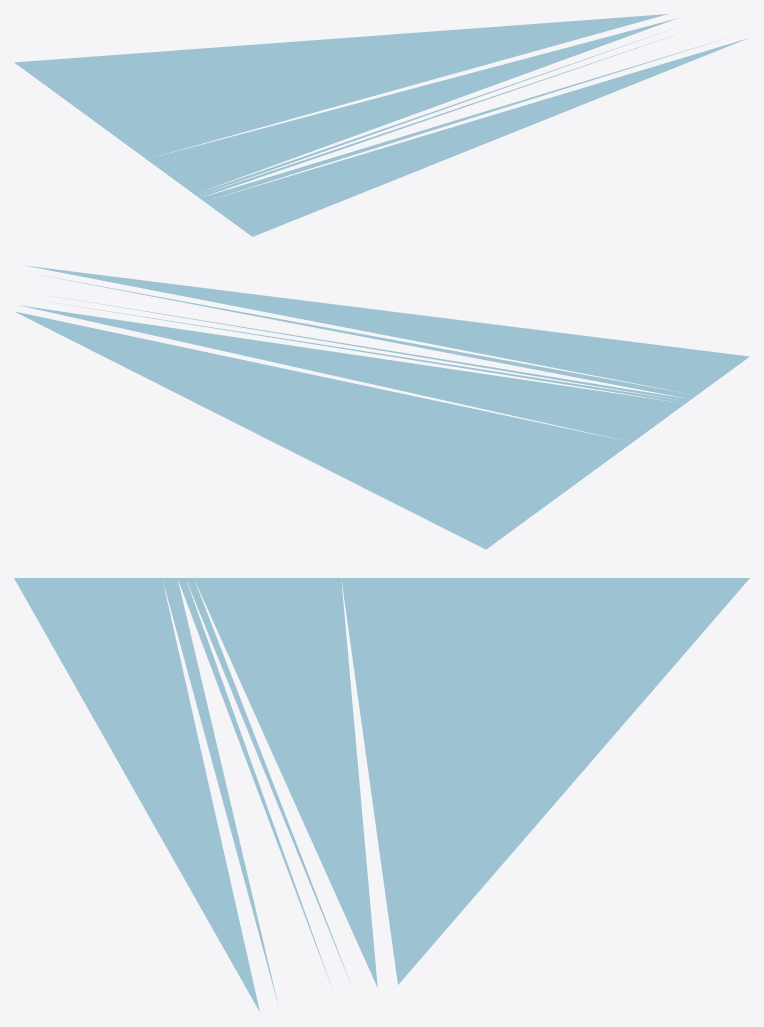
Rendered from terrain-context-C-x-2-z-2.glb.
3 views of the same model, one above another, from view 1: azimuth 30°, elevation 25°; view 2: azimuth 150°, elevation 25°; view 3: azimuth 270°, elevation 25° (orthographic). The views are drawn at different scales.
Visible parts, largest first — view 1: C-x-2-z-2; view 2: C-x-2-z-2; view 3: C-x-2-z-2.
Boxes of the visible parts, x1=… form: C-x-2-z-2: x1=14, y1=14, x2=747, y2=236; C-x-2-z-2: x1=15, y1=265, x2=749, y2=549; C-x-2-z-2: x1=14, y1=578, x2=749, y2=1011.
Bounding box in the file's own units: 239 × 2.3e-05 × 171.
